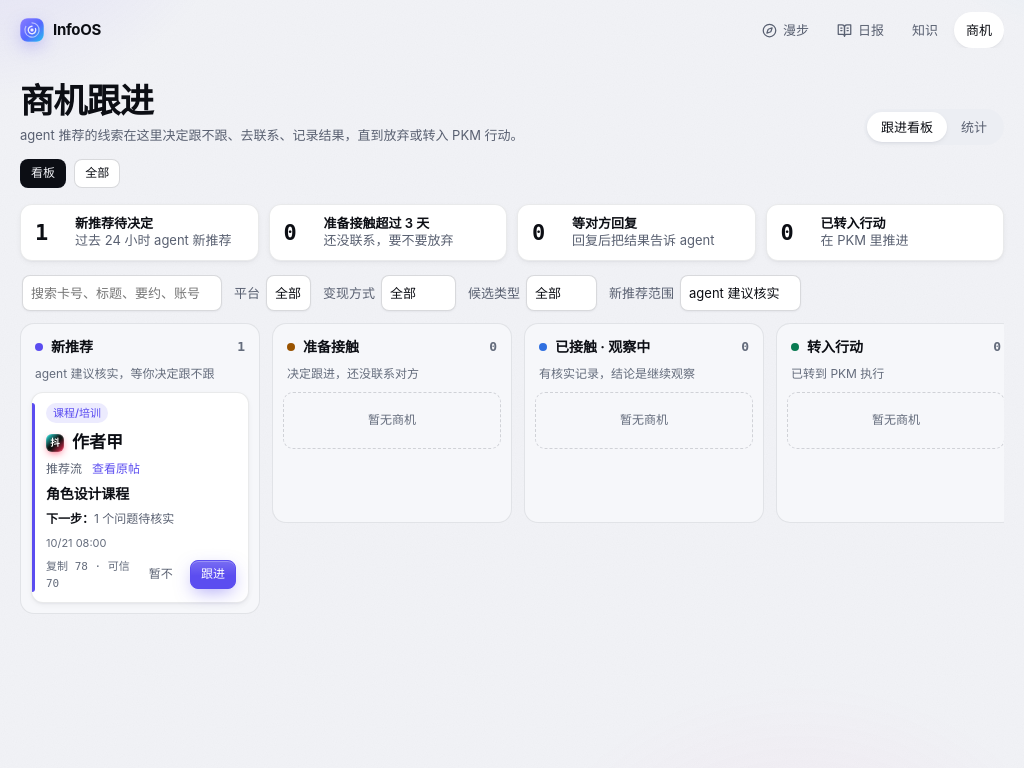
商机页面 › 详情抽屉按 Esc 关闭
Click the element "角色设计课程" at [140, 498], box top-left (31, 392), bottom-right (249, 603)
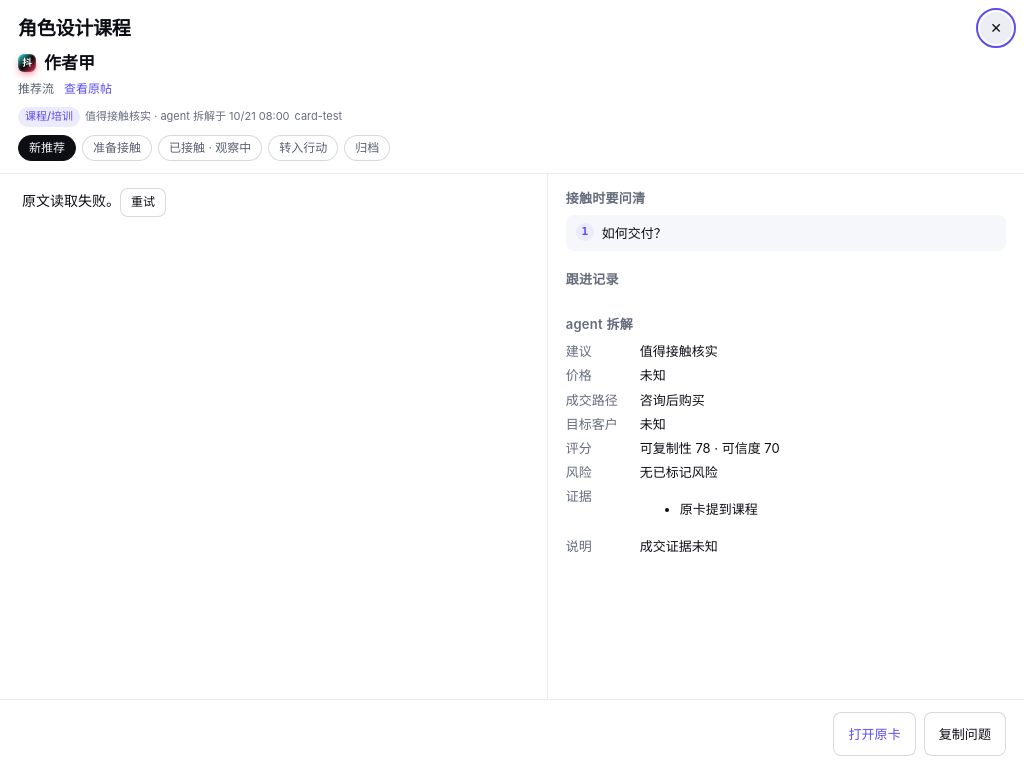
Expected: the list item "如何交付？" is shown, top-left (566, 215), bottom-right (1006, 251)
Press Escape
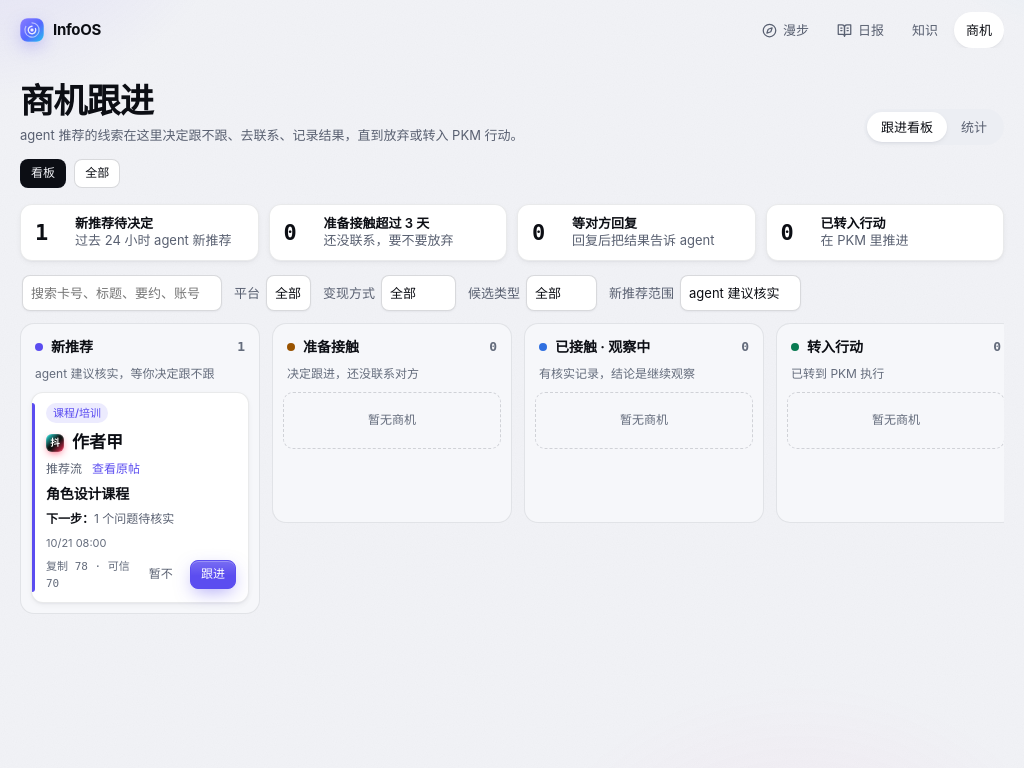
Expected: the dialog is gone
